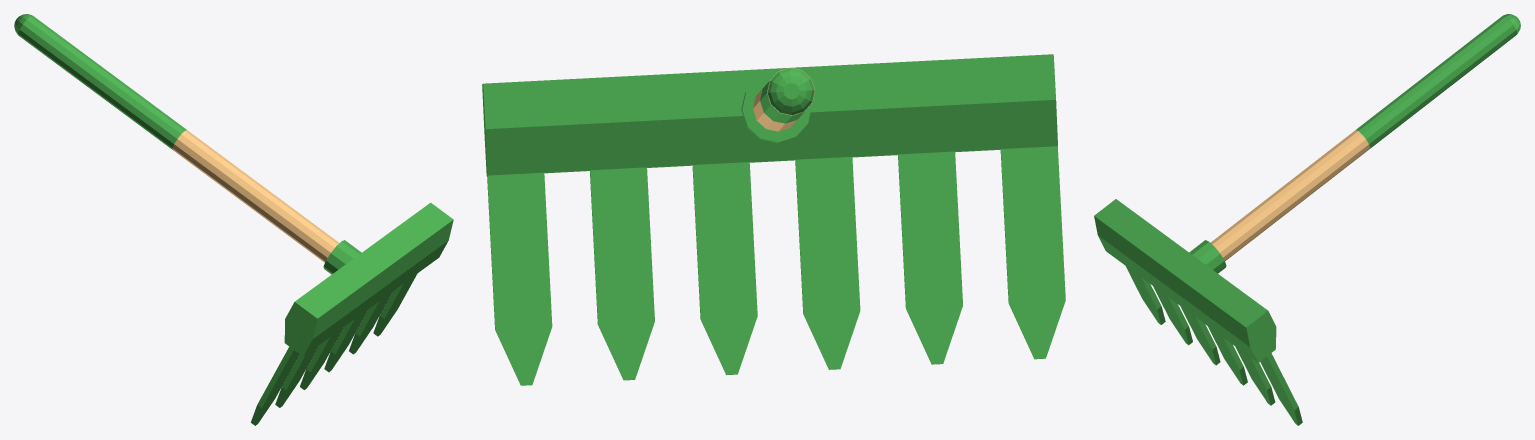
Rendered from rake.obj.
The picture shows the model from 3 angles, left to right: view 1: azimuth 30°, elevation 25°; view 2: azimuth 150°, elevation 25°; view 3: azimuth 270°, elevation 25°; orthographic projection. The views are drawn at different scales.
Visible parts, largest first — view 1: model; view 2: model; view 3: model.
Part boxes in pixels (left/top/right/bottom): model: left=14, top=14, right=453, bottom=425; model: left=482, top=54, right=1065, bottom=385; model: left=1094, top=14, right=1520, bottom=425.
Size of the model in its own units: 1.85 by 1.75 by 2.31.
2 materials, 2 textured.
